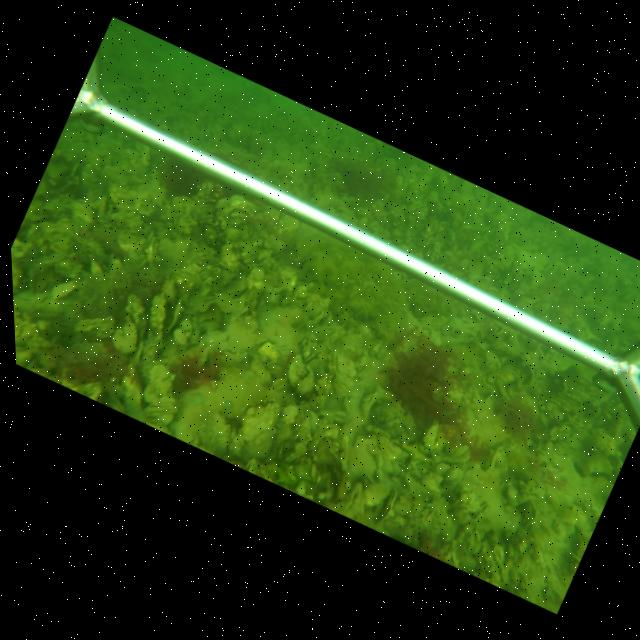Oyster-Closed: (237, 396, 280, 460), (346, 432, 382, 483), (330, 481, 364, 516), (308, 422, 342, 453), (373, 490, 399, 526)
Oyster-Open: (147, 290, 183, 357)
